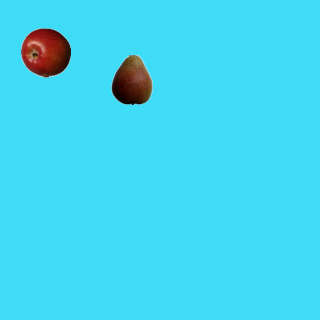Apple Braeburn: (20, 27, 70, 77)
Pear Forelle: (106, 54, 156, 104)
